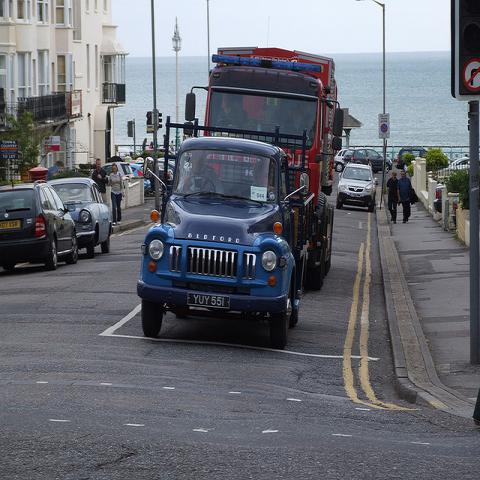car: (0, 183, 79, 274), (48, 178, 114, 258), (336, 160, 379, 214), (343, 146, 394, 174), (395, 149, 429, 171), (130, 164, 151, 194), (101, 163, 135, 178), (158, 157, 174, 184), (334, 149, 347, 173), (448, 156, 470, 168)
truck: (186, 46, 342, 288), (135, 133, 304, 352)
